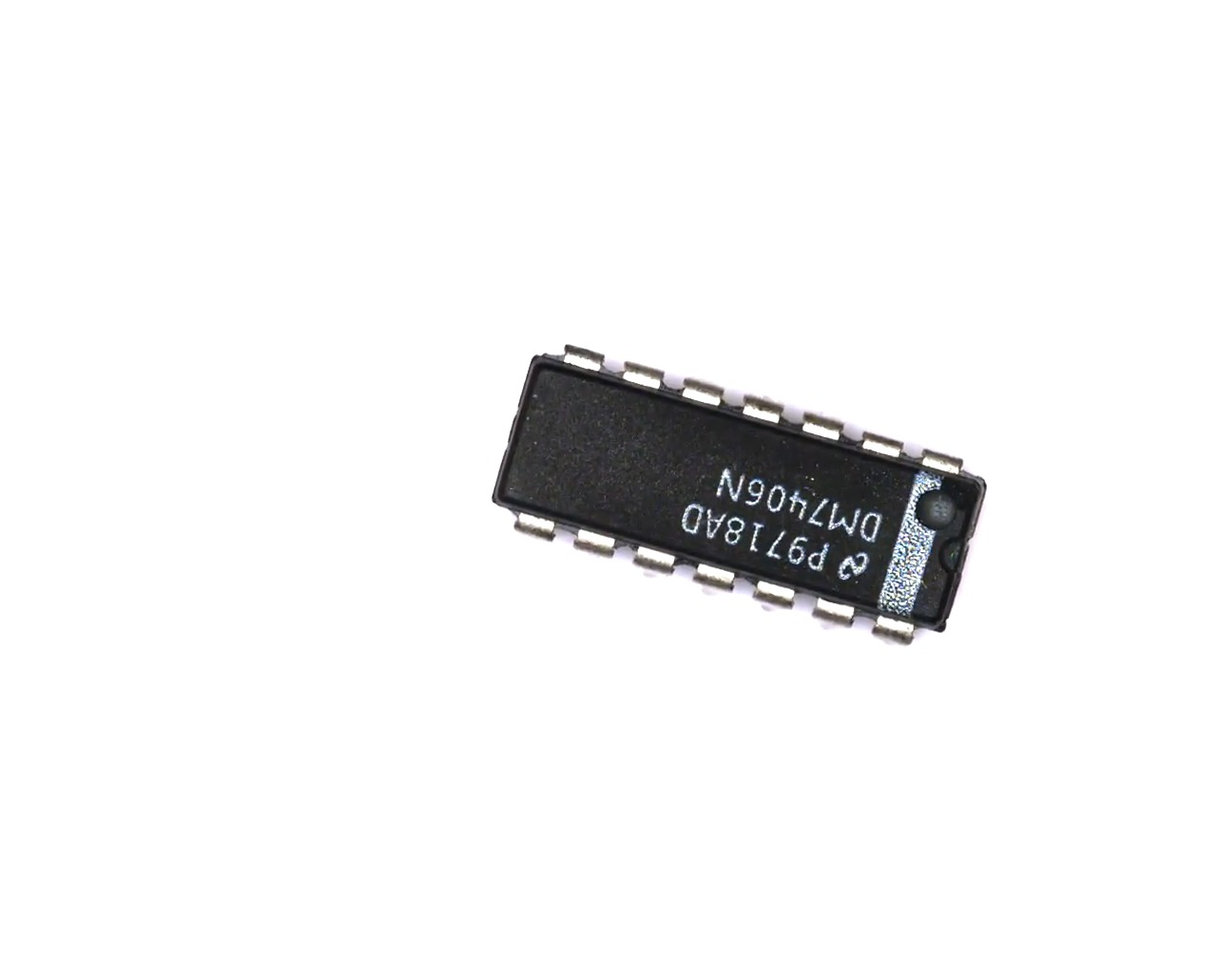IC: (474, 325, 1013, 671)
notch: (934, 532, 973, 582)
